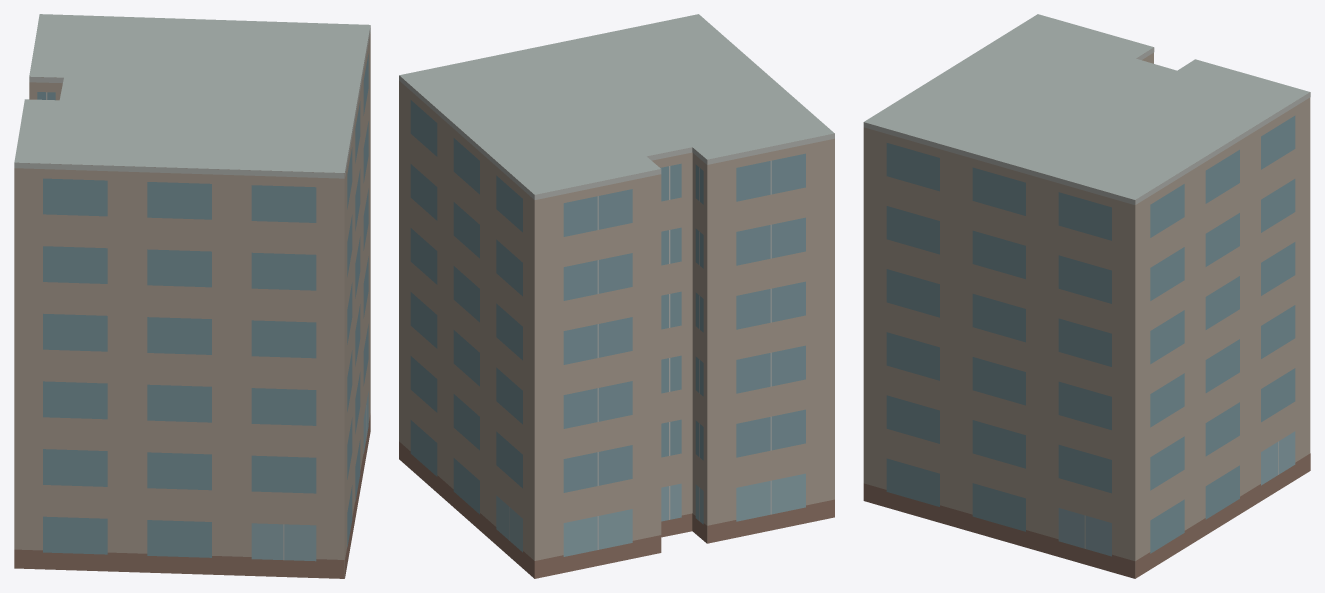
The model's file is survey-upis-32899133.glb.
3 renders of one model, left to right at view 1: azimuth 30°, elevation 25°; view 2: azimuth 150°, elevation 25°; view 3: azimuth 270°, elevation 25°, orthographic. The views are drawn at different scales.
Visible parts, largest first — view 1: survey-upis-32899133.tmp; view 2: survey-upis-32899133.tmp; view 3: survey-upis-32899133.tmp.
Boxes of the visible parts, x1,y1,x2,y2 form: survey-upis-32899133.tmp: (14, 14, 370, 578); survey-upis-32899133.tmp: (399, 14, 834, 578); survey-upis-32899133.tmp: (863, 14, 1310, 578).
Bounding box in the file's own units: 18.76 × 17.8 × 19.04.
